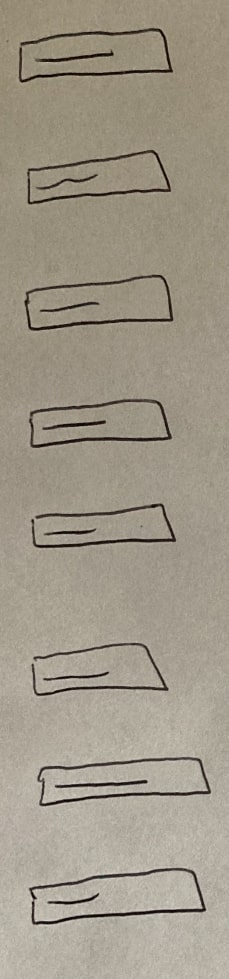input: (24, 862, 209, 927), (31, 750, 216, 813), (21, 144, 176, 212), (25, 495, 182, 561), (21, 270, 180, 332), (26, 392, 176, 454), (16, 26, 179, 83), (27, 637, 171, 701)
